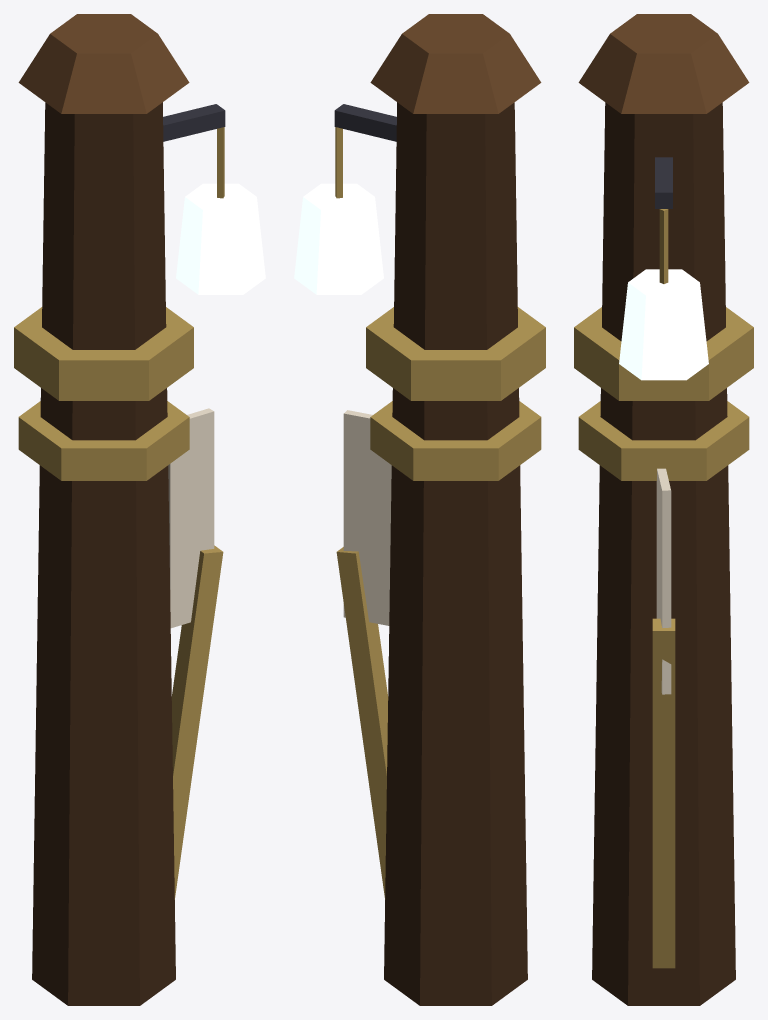
Rendered from prop_mooring_post.glb.
3 renders of one model, left to right at view 1: azimuth 30°, elevation 25°; view 2: azimuth 150°, elevation 25°; view 3: azimuth 270°, elevation 25°, orthographic.
Parts seen in each view (by area): view 1: prop_mooring_post; view 2: prop_mooring_post; view 3: prop_mooring_post.
Part boxes in pixels (x1,y1,x2,y2): prop_mooring_post: (14, 14, 265, 1005); prop_mooring_post: (294, 14, 545, 1005); prop_mooring_post: (574, 14, 753, 1005).
Bounding box in the file's own units: 0.5598 × 2.32 × 0.4.
